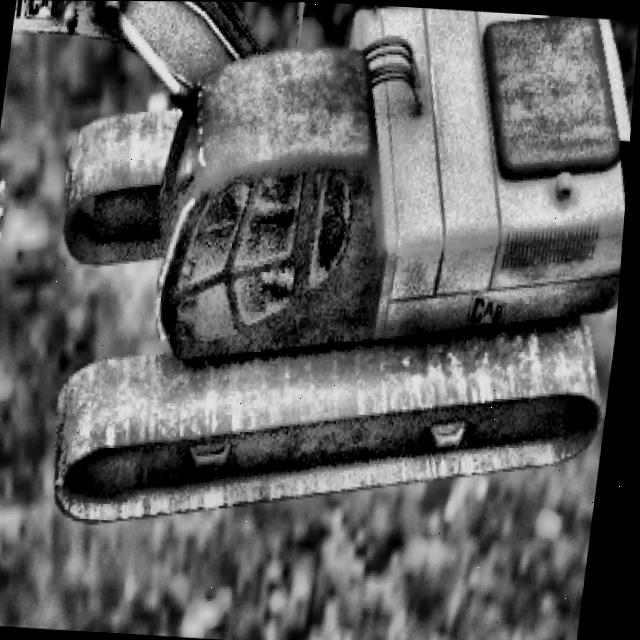excavator: (0, 0, 640, 551)
